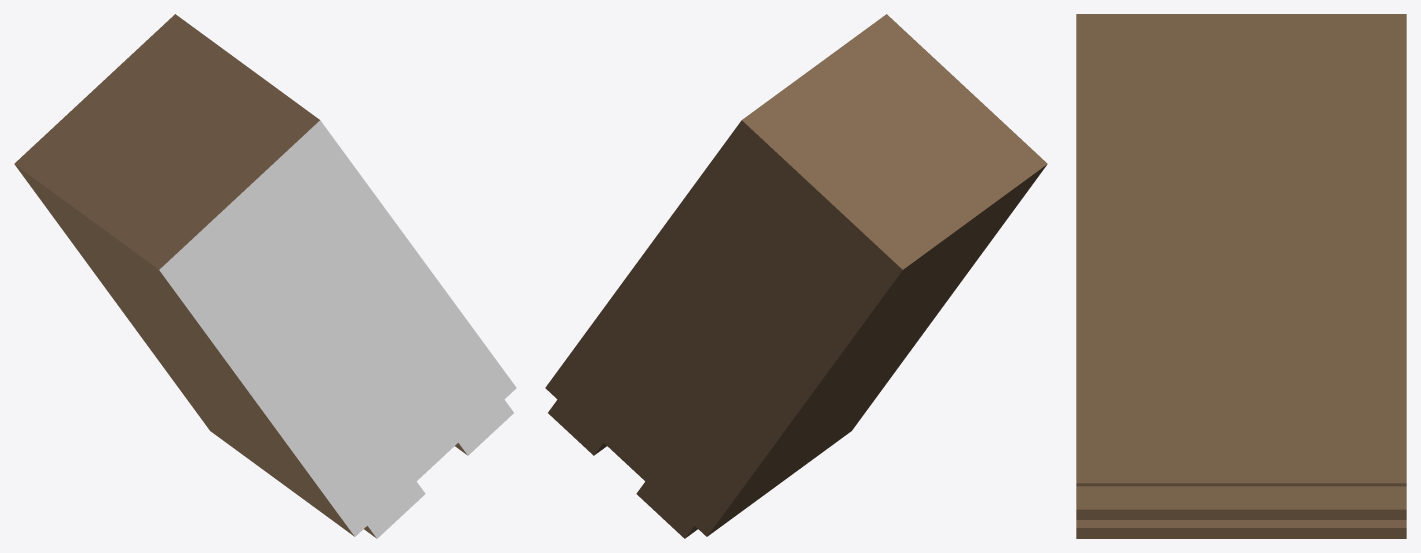
3 views of the same model, side by side, from view 1: azimuth 30°, elevation 25°; view 2: azimuth 150°, elevation 25°; view 3: azimuth 270°, elevation 25° (orthographic). The views are drawn at different scales.
Visible parts, largest first — view 1: City_PC-08703; view 2: City_PC-08703; view 3: City_PC-08703.
Part boxes in pixels (x1,y1,x2,y2): City_PC-08703: [14, 14, 516, 538]; City_PC-08703: [545, 14, 1047, 538]; City_PC-08703: [1076, 14, 1406, 538].
Bounding box in the file's own units: 2010 × 2323 × 1411.
